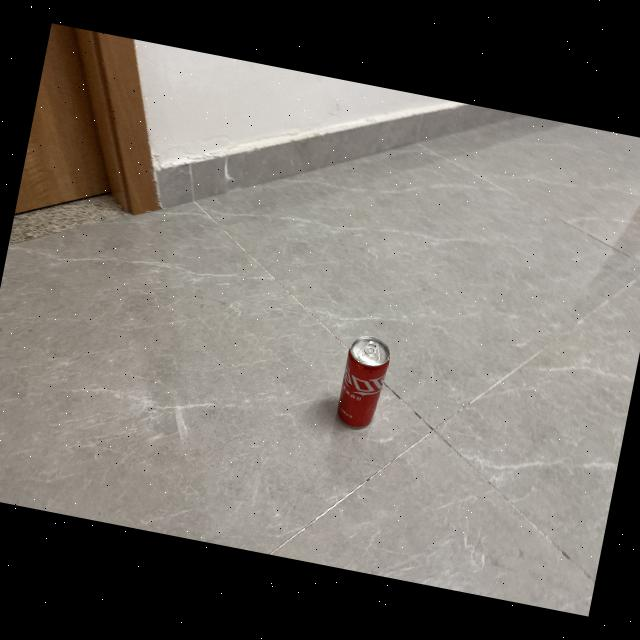Cola: (327, 328, 397, 436)
